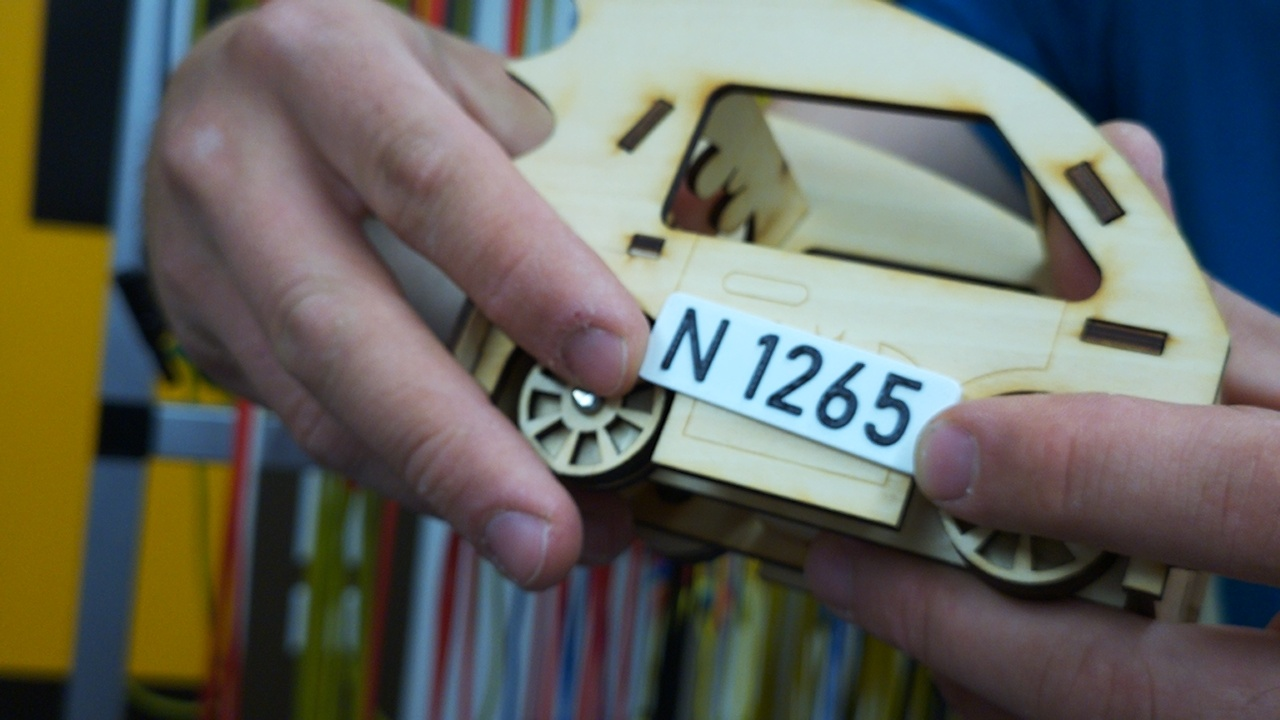license_plate: (636, 290, 967, 484)
